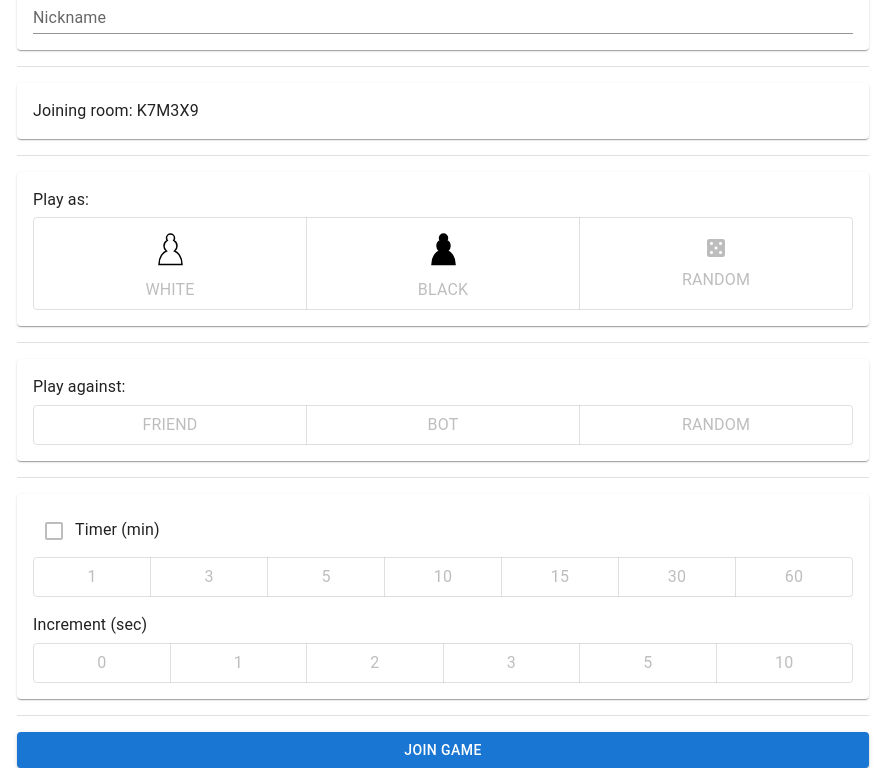
Test case: NewGame page › join token (URL fragment) › surfaces the friendly INVALID_JOIN_TOKEN message when the backend rejects
The image size is (887, 768).
(page scrolled)
Click the button "Join game" at {"x": 443, "y": 750}, box [17,732,869,767]
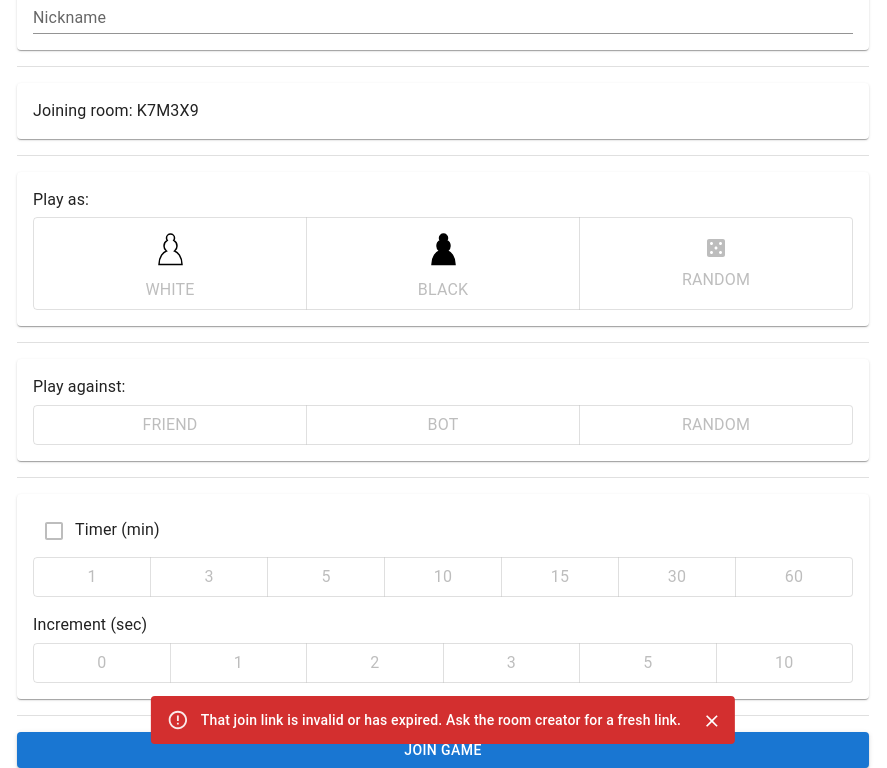
expect the text "join link is invalid" is shown: met, box [201,712,681,728]
